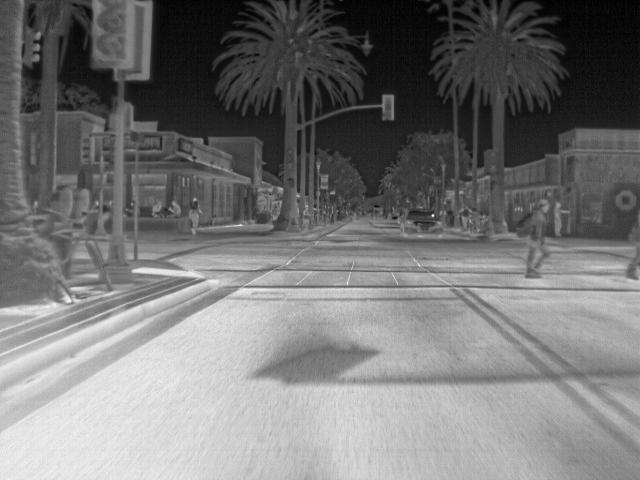car: (404, 209, 446, 238), (390, 212, 398, 221)
person: (516, 198, 552, 279), (626, 209, 640, 281), (189, 197, 204, 235), (554, 201, 570, 236), (460, 204, 474, 232), (167, 200, 183, 218), (302, 204, 312, 232), (152, 200, 165, 218), (398, 210, 406, 235), (124, 200, 135, 214), (440, 206, 447, 222), (93, 199, 99, 209)
